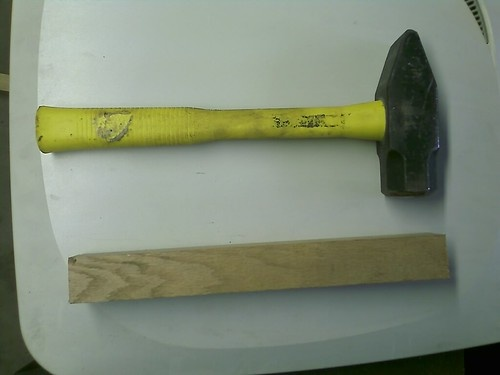hammer: (35, 26, 441, 197)
